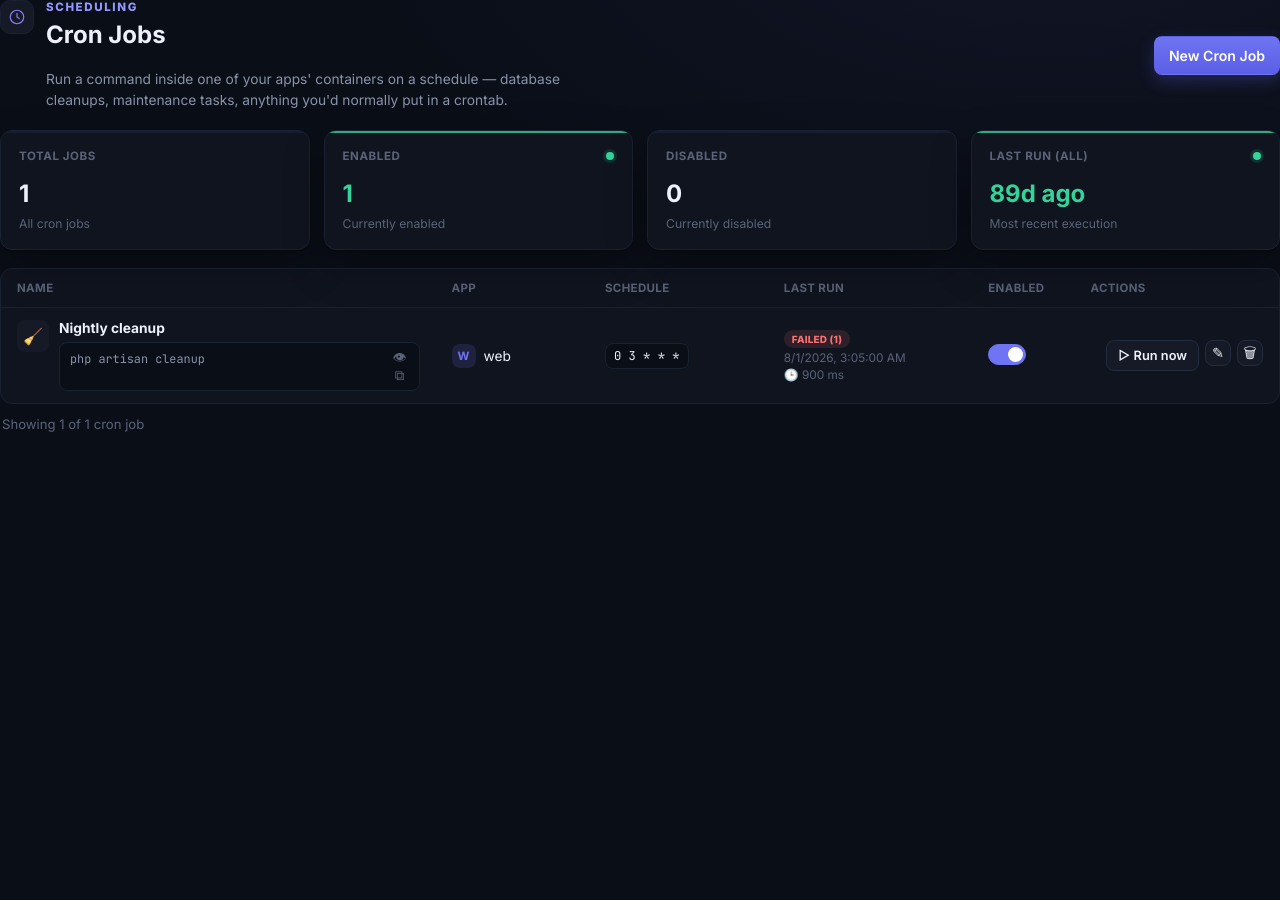
Test: CronPage › run history lists multiple runs and switches output on click
The image size is (1280, 900).
Expected: the text "Nightly cleanup" is shown, [59,320,165,336]
// Open history from the last-run status (failed).
Click the button "failed (1) 8/1/2026, 3:05:00 AM 🕒 900 ms": (845, 356) [784,330,906,382]
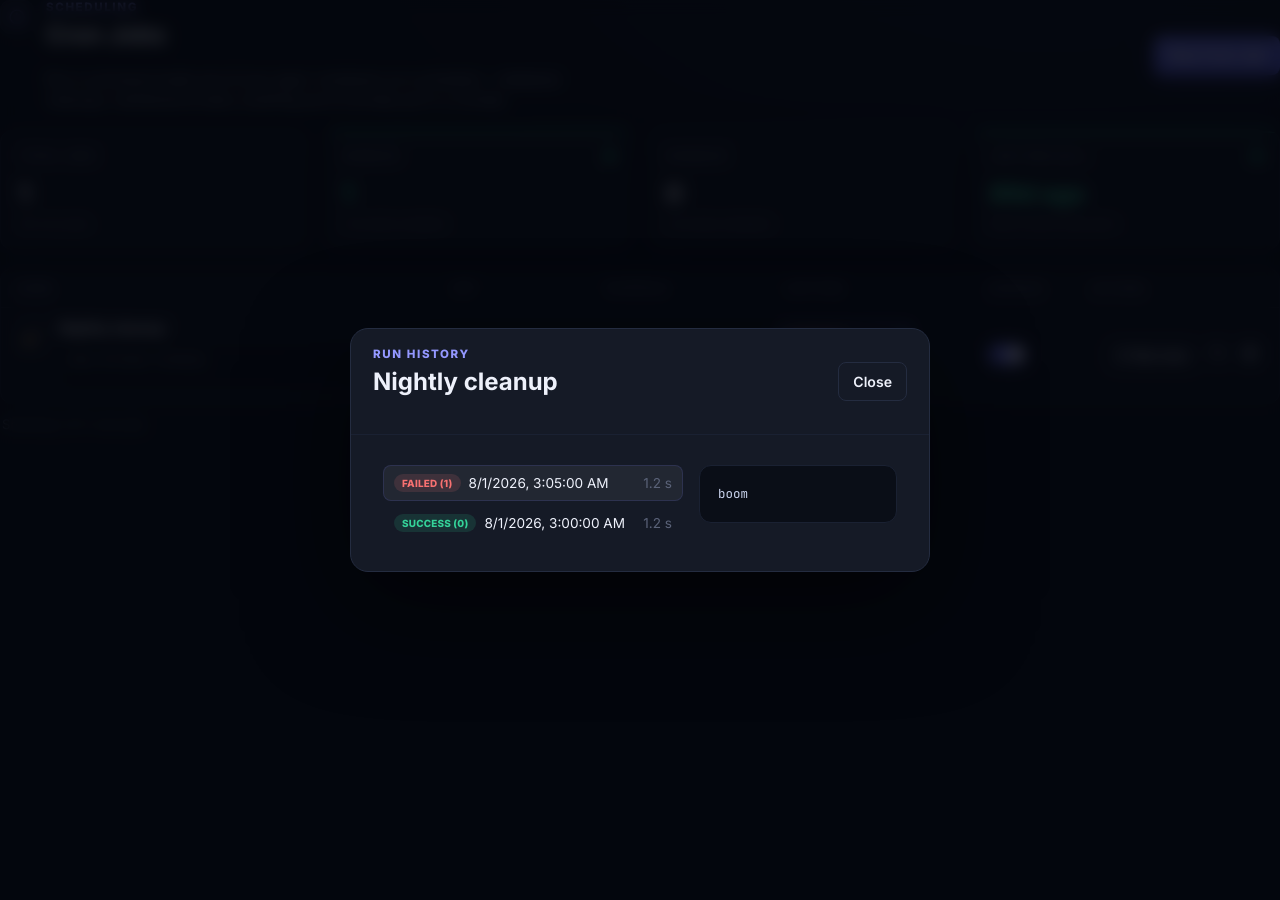
Now the text "boom" is shown, box [718,485,748,502]
// Selecting the older, successful run switches the shown output.
Click the button "success (0) 8/1/2026, 3:00:00 AM 1.2 s": (533, 523) [383,505,683,541]
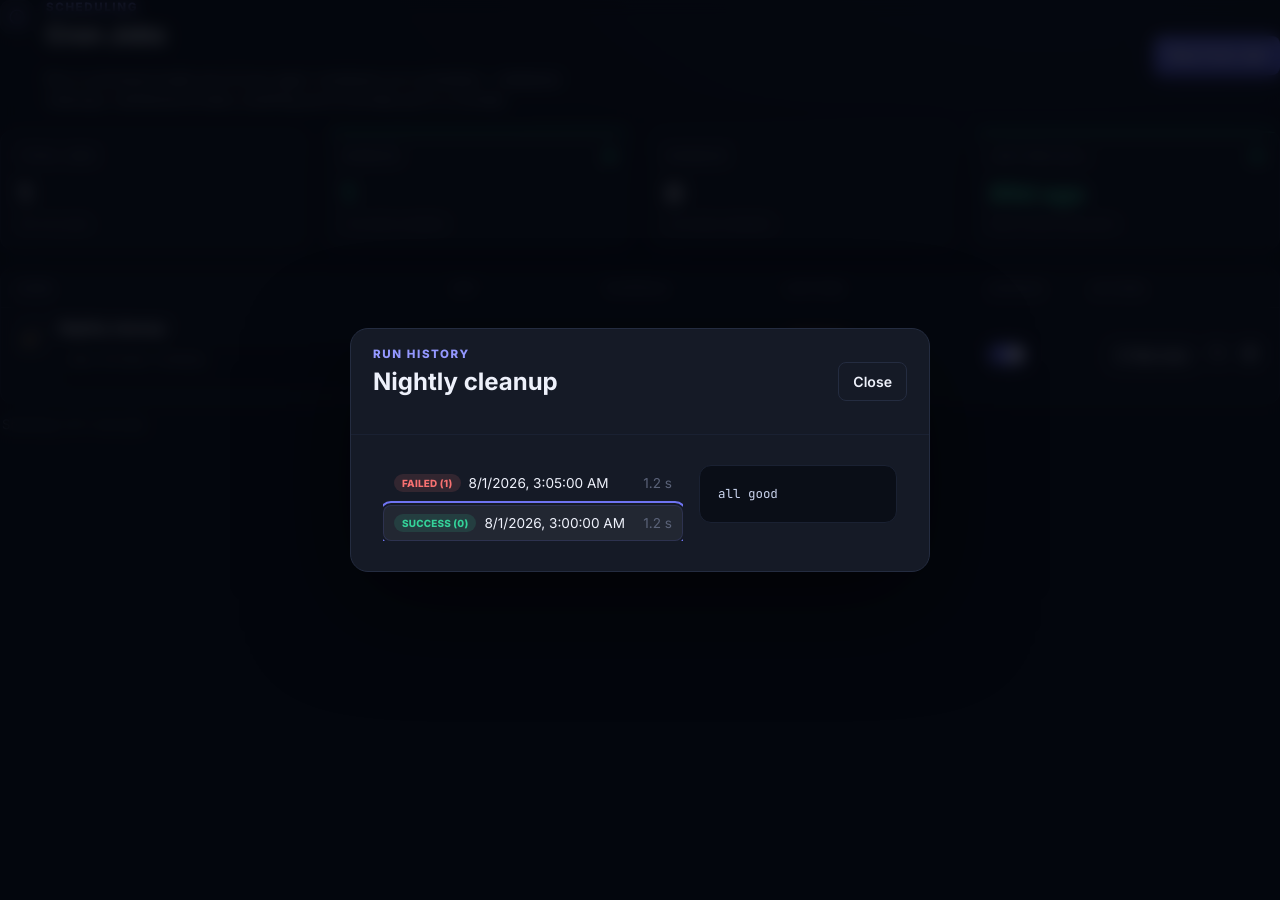
Now the text "all good" is shown, box [718,485,778,502]
